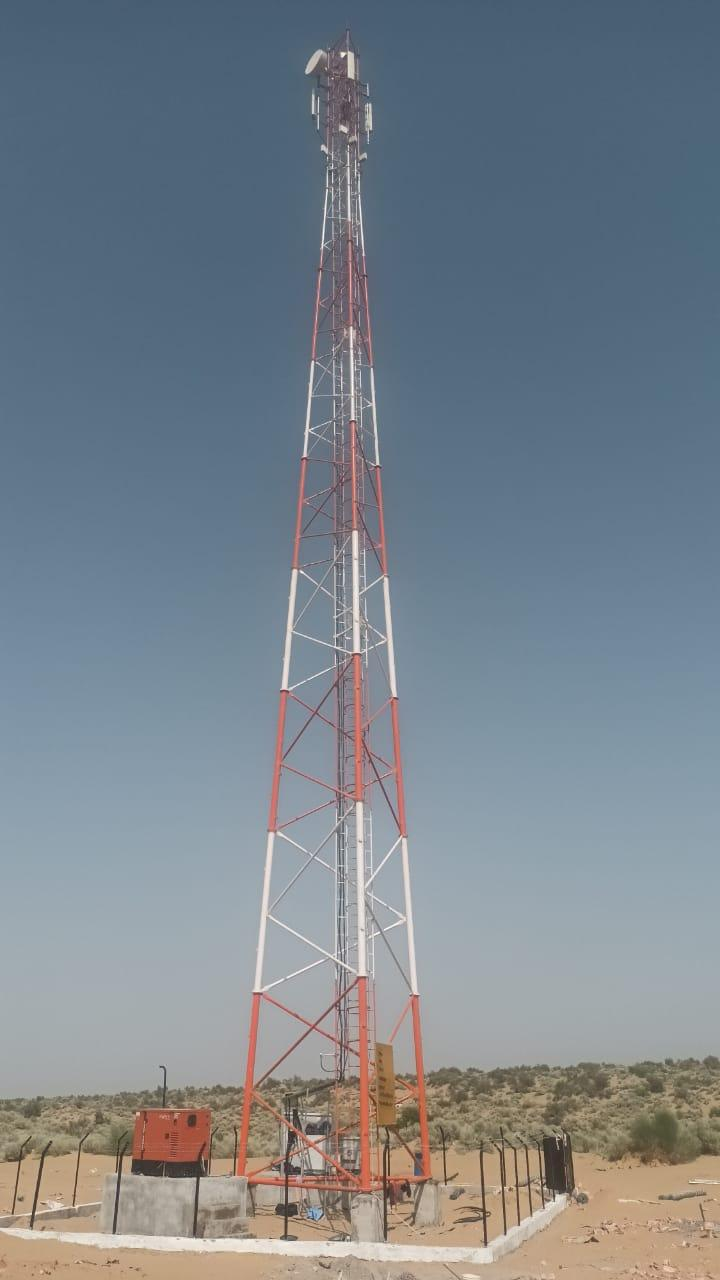Microwave Antenna: (299, 47, 329, 78)
antenna: (344, 50, 360, 83), (309, 84, 318, 121), (365, 102, 373, 133)
